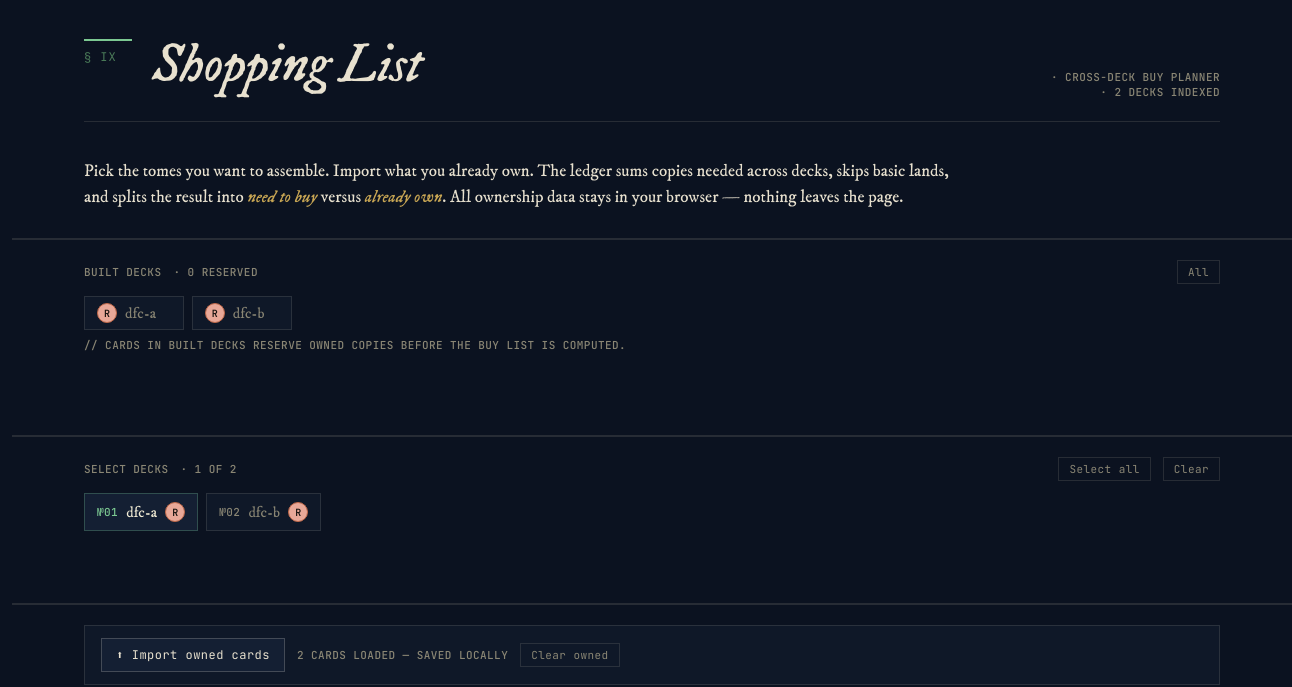
Test: Shopping organism › an owned quantity is a whole number of 1 or more (DEC-1141) › adds a stored double-faced name and its front face into one card
This screenshot has width=1292, height=687.
Click the button "Select all" at {"x": 1105, "y": 470}, box [1058,458,1151,482]
(page scrolled)
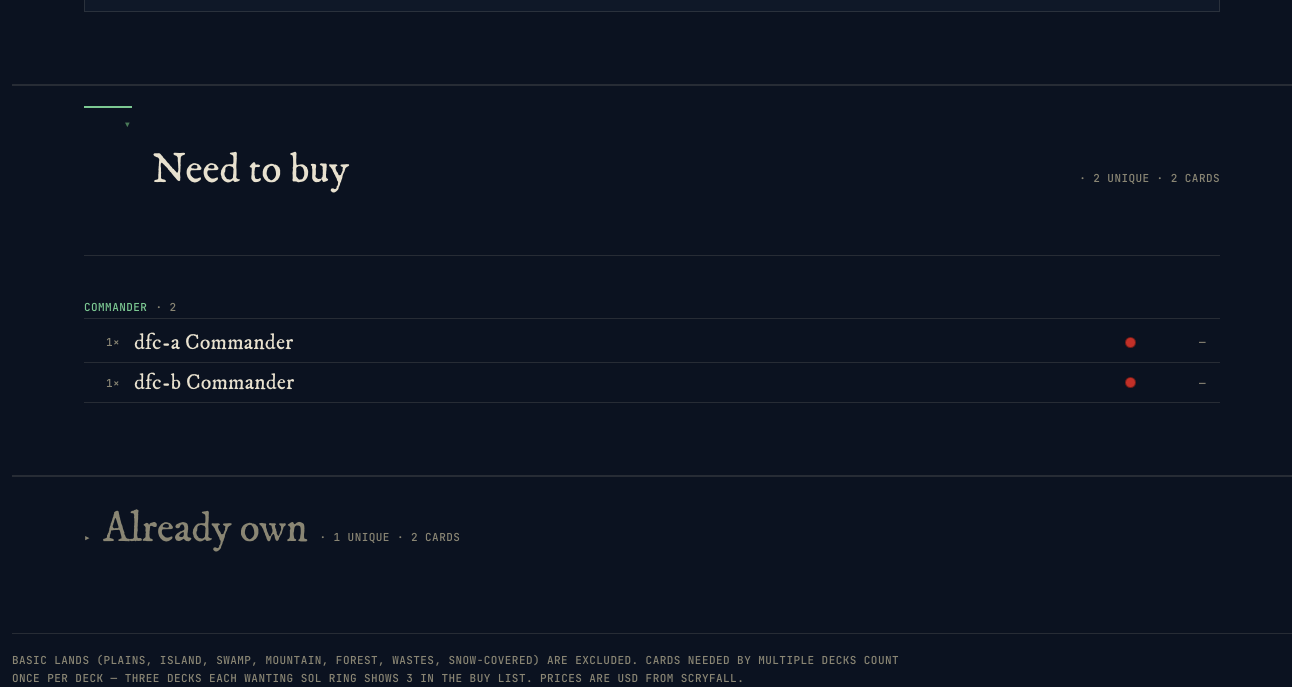
Result: the text "· 1 unique · 2 cards" is shown at [319,530,460,544]
